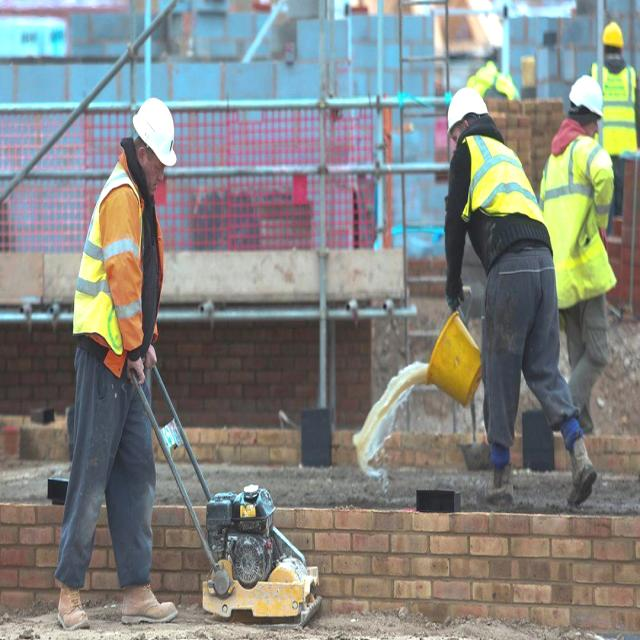hand_glove: (442, 274, 470, 321)
hand_noglove: (128, 348, 150, 399)
head_helmet: (137, 96, 178, 176), (440, 76, 494, 126), (567, 68, 605, 119), (599, 18, 629, 49)
person: (59, 94, 187, 639), (433, 77, 562, 480), (534, 53, 610, 441), (583, 14, 638, 288)
shoes: (116, 571, 182, 627), (562, 436, 598, 514), (474, 453, 516, 513), (52, 580, 91, 634)
vest: (538, 132, 622, 315), (74, 165, 151, 352), (450, 124, 546, 254), (590, 67, 640, 154)
